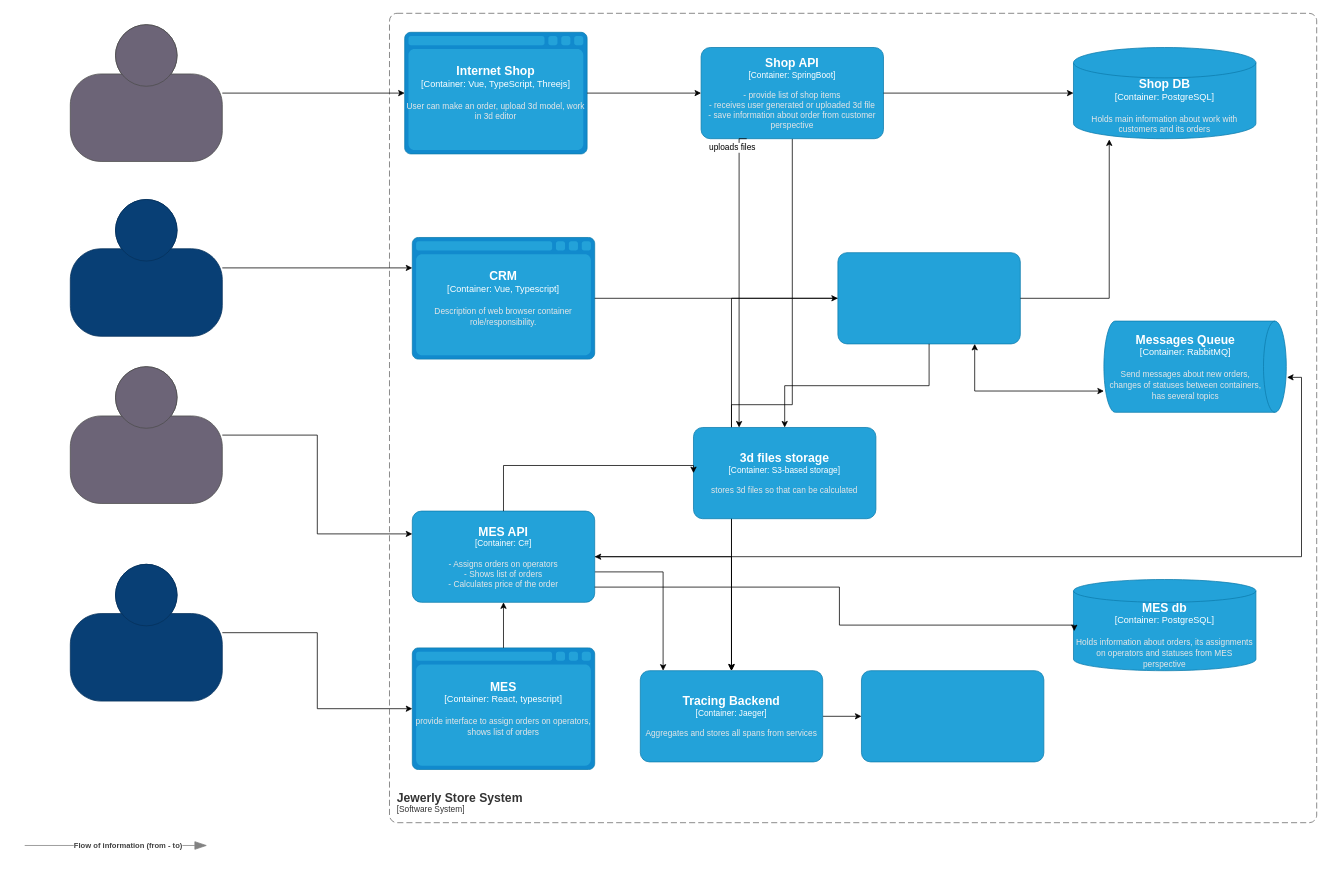
This 1330x871 diagram has some shape labels left out. Each missing label, with the centre of its shape:
API user [Person] Description of external person.: (146,435)
CRM API [Container: SpringBoot] Description of container role/responsibility.: (928,298)
Customer [Person] Description of external person.: (146,93)
Grafana [Container: Grafana] UI + Alerts: (952,716)
Operator [Person] Takes order in work, manufactures jewerly: (146,632)
Seller [Person] Operates with order, confirms manufacturing for the user: (146,267)
